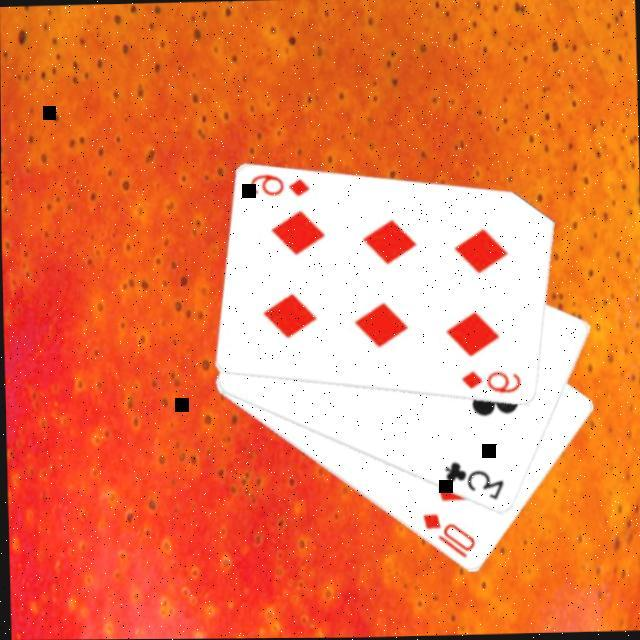10D: (418, 508, 479, 561)
3C: (441, 456, 508, 503)
6D: (457, 365, 525, 396), (246, 168, 314, 199)
